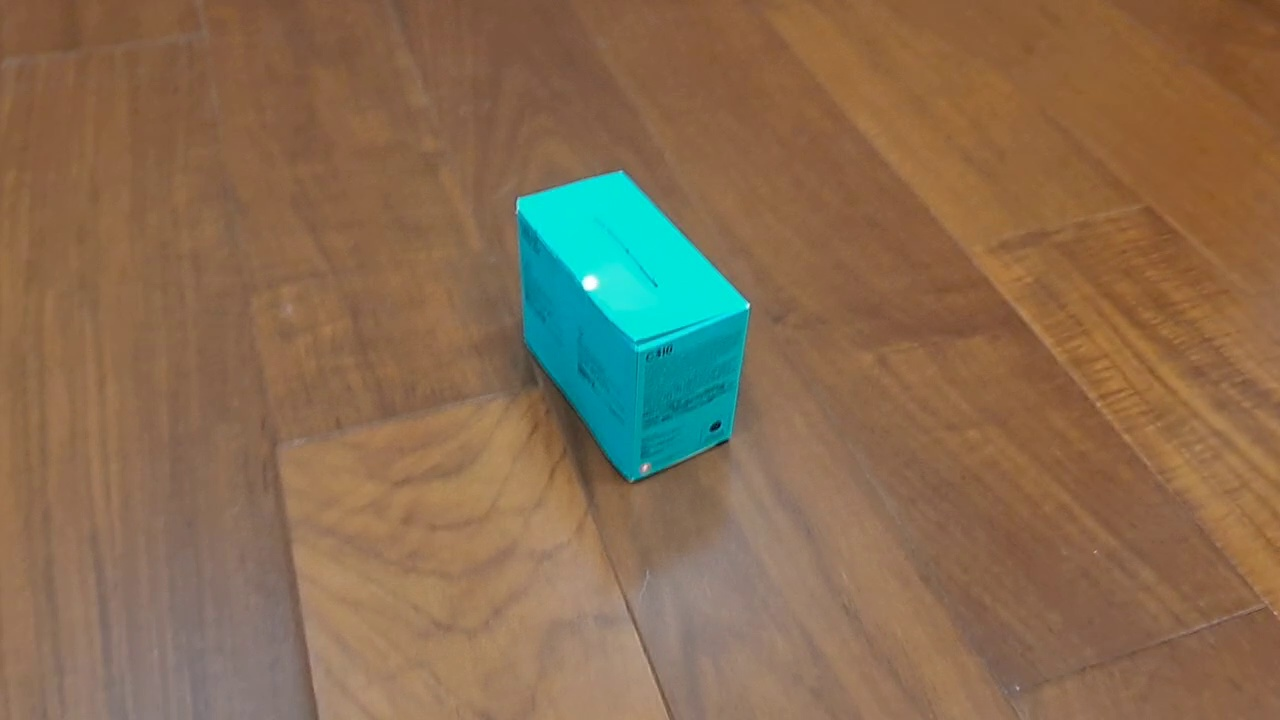webcam: (514, 168, 753, 486)
